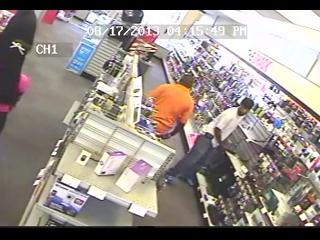Normal: (164, 97, 256, 190), (0, 9, 37, 133), (140, 78, 196, 144)
